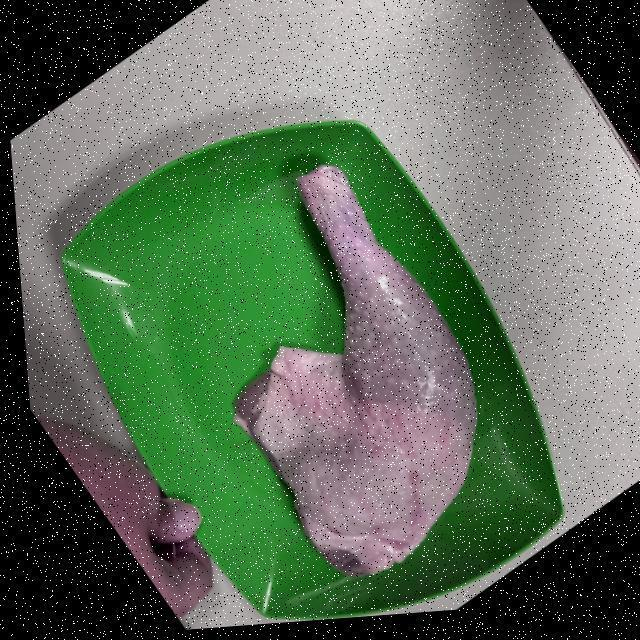quater: (243, 152, 484, 564)
